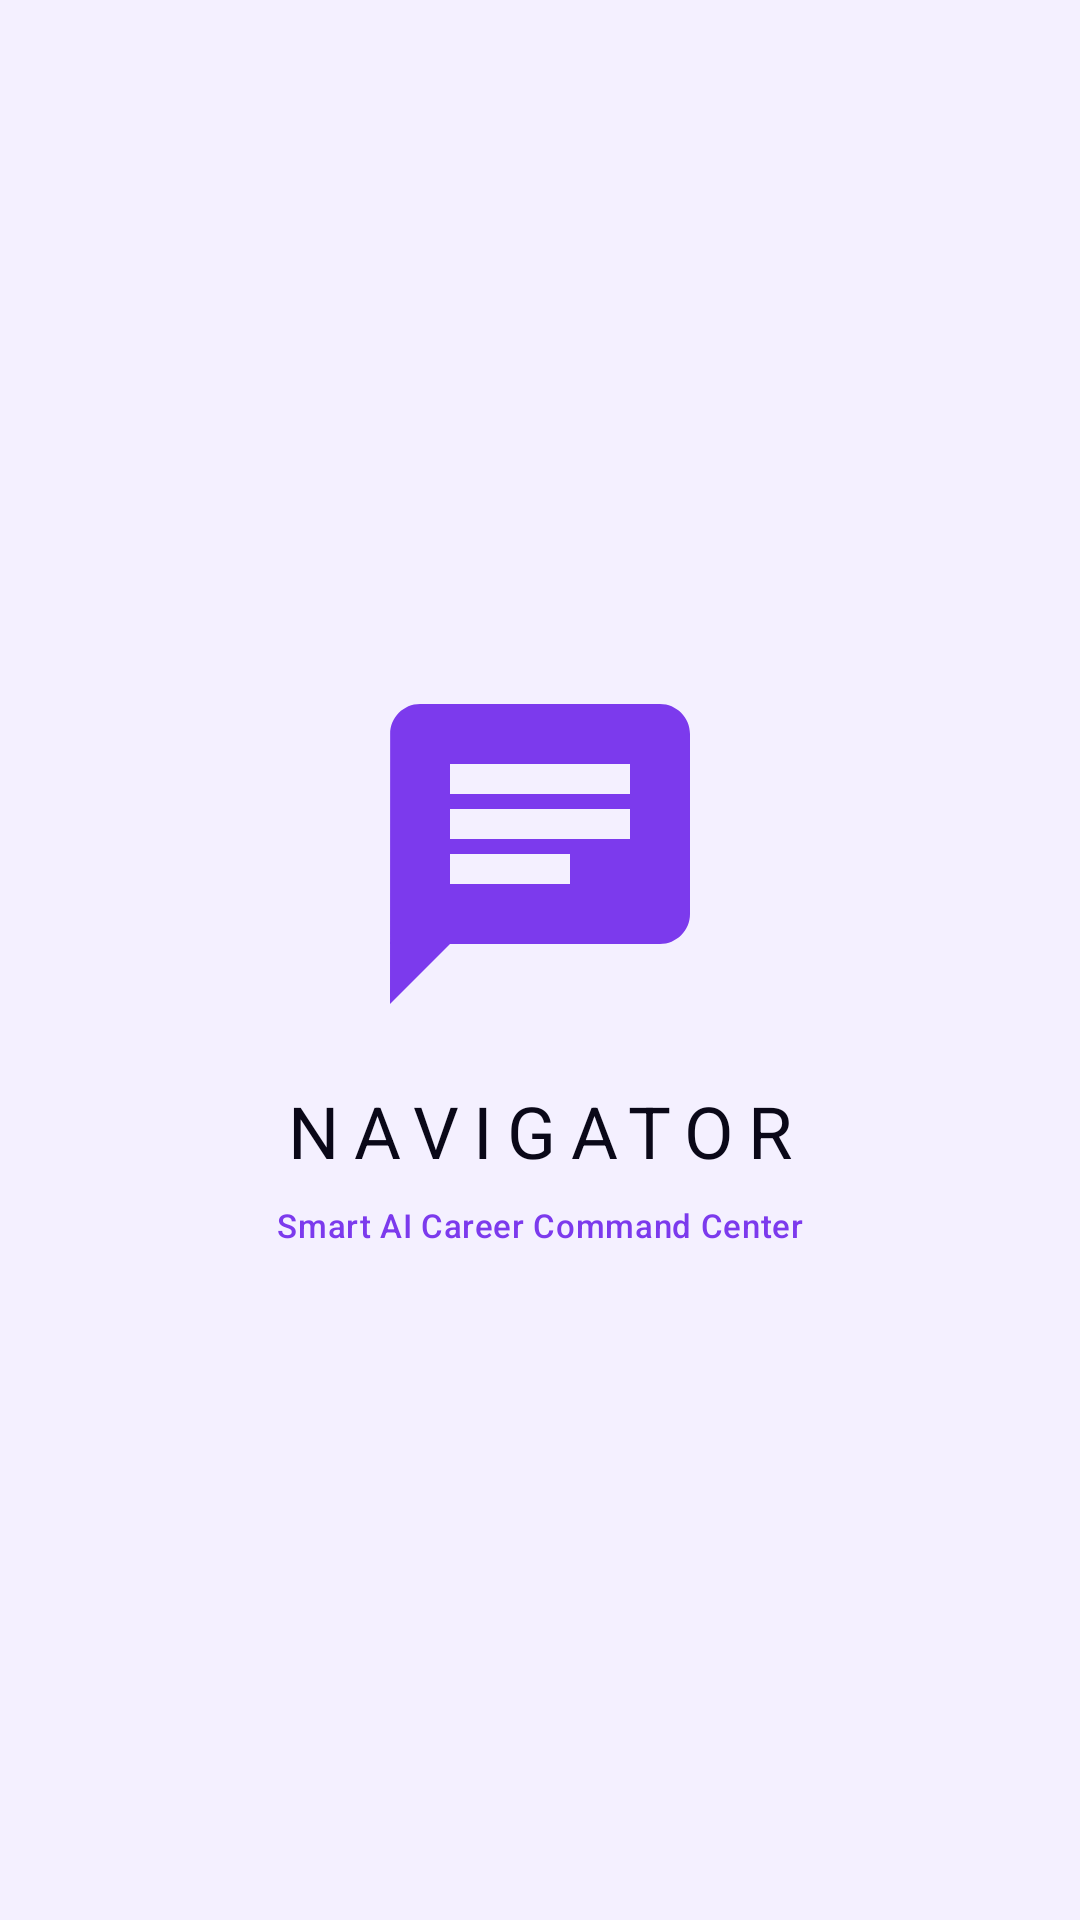

Screen size 1080x1920. Icon name, then its box in pixels as (x1,y1,x2,y2):
chat: (390,704,690,1004)
